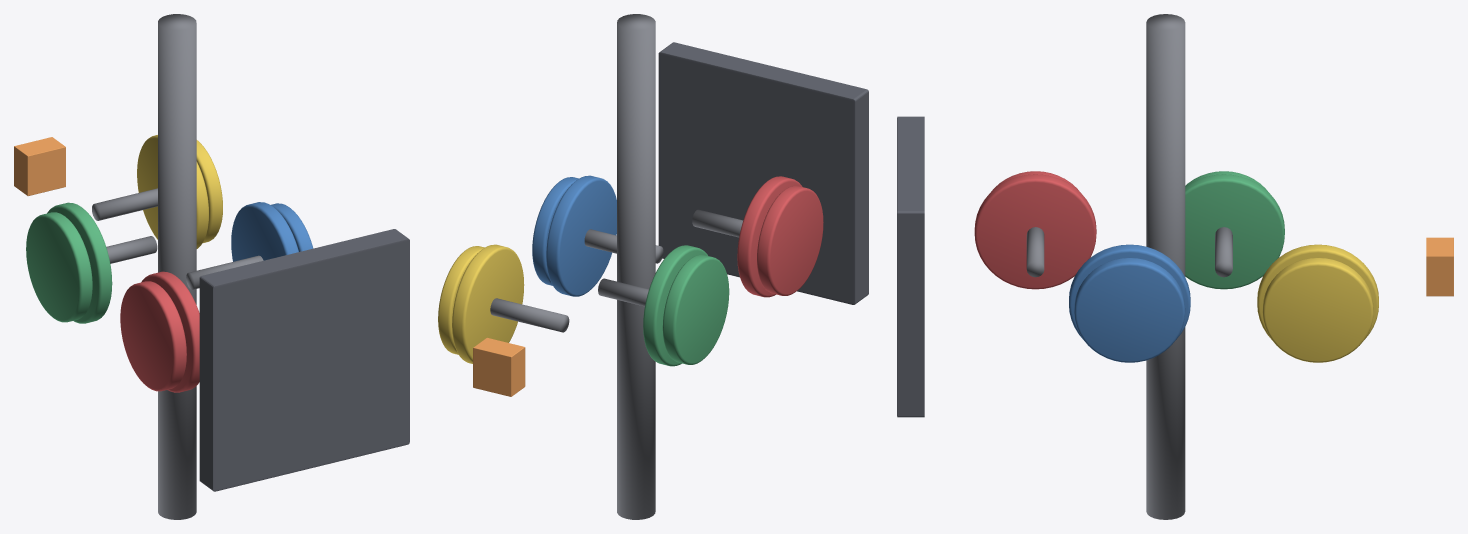
The model's file is plate_tree.glb.
3 views of the same model, side by side, from view 1: azimuth 30°, elevation 25°; view 2: azimuth 150°, elevation 25°; view 3: azimuth 270°, elevation 25° (orthographic).
Parts seen in each view (by area): view 1: base, pole, plate_-1_0.5_1, plate_-1_1.18_1, plate_1_0.84_0, plate_-1_1.18_0, cap, plate_-1_0.5_0, plate_1_1.52_0, plate_1_1.52_1, peg_1_1.52, peg_-1_1.18 (+2 smaller); view 2: base, pole, plate_1_0.84_0, plate_-1_0.5_1, plate_-1_1.18_1, plate_1_1.52_0, plate_-1_0.5_0, plate_-1_1.18_0, cap, plate_1_0.84_1, plate_1_1.52_1, peg_1_1.52 (+3 smaller); view 3: pole, plate_-1_0.5_0, plate_1_1.52_1, plate_1_0.84_1, plate_-1_1.18_0, base, plate_1_1.52_0, plate_1_0.84_0, cap, peg_-1_0.5, peg_-1_1.18.
Part boxes in pixels (<box>): base: <box>199,229,409,491</box>; pole: <box>158,14,196,519</box>; plate_-1_0.5_1: <box>120,281,186,391</box>; plate_-1_1.18_1: <box>26,212,92,322</box>; plate_1_0.84_0: <box>231,202,298,261</box>; plate_-1_1.18_0: <box>47,202,112,323</box>; cap: <box>14,137,65,195</box>; plate_-1_0.5_0: <box>141,271,199,392</box>; plate_1_1.52_0: <box>137,135,208,248</box>; plate_1_1.52_1: <box>196,140,222,243</box>; peg_1_1.52: <box>92,188,157,220</box>; peg_-1_1.18: <box>106,236,157,263</box>; base: <box>658,42,868,304</box>; pole: <box>617,14,655,519</box>; plate_1_0.84_0: <box>546,175,616,296</box>; plate_-1_0.5_1: <box>757,186,823,295</box>; plate_-1_1.18_1: <box>662,255,729,364</box>; plate_1_1.52_0: <box>452,244,524,363</box>; plate_-1_0.5_0: <box>737,176,802,297</box>; plate_-1_1.18_0: <box>643,245,707,366</box>; cap: <box>473,337,525,396</box>; plate_1_0.84_1: <box>532,177,578,285</box>; plate_1_1.52_1: <box>438,246,484,354</box>; peg_1_1.52: <box>490,298,569,332</box>; pole: <box>1146,14,1185,519</box>; plate_-1_0.5_0: <box>974,174,1096,289</box>; plate_1_1.52_1: <box>1262,257,1373,362</box>; plate_1_0.84_1: <box>1074,257,1185,362</box>; plate_-1_1.18_0: <box>1185,174,1284,289</box>; base: <box>897,116,924,417</box>; plate_1_1.52_0: <box>1257,244,1378,339</box>; plate_1_0.84_0: <box>1069,244,1190,339</box>; cap: <box>1426,237,1453,296</box>; peg_-1_0.5: <box>1026,227,1044,277</box>; peg_-1_1.18: <box>1215,227,1232,277</box>.
Bounding box in the file's own units: 0.82 × 1.95 × 2.01.
